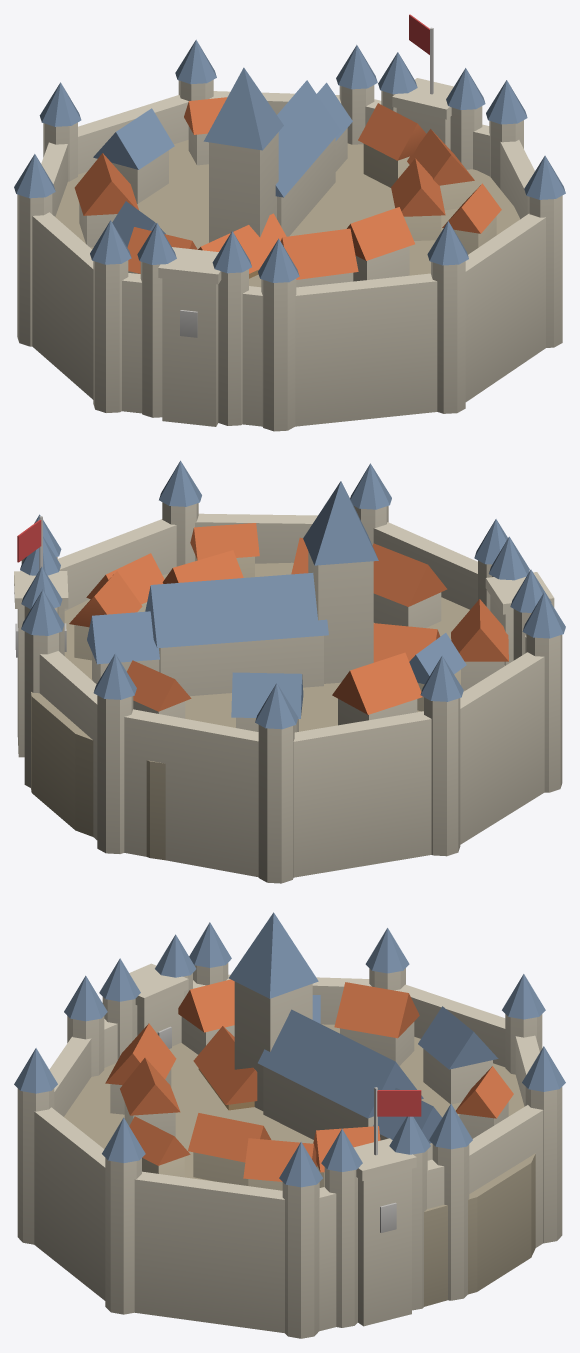
The model's file is town_west_a.glb.
The picture shows the model from 3 angles, top to bottom: view 1: azimuth 30°, elevation 25°; view 2: azimuth 150°, elevation 25°; view 3: azimuth 270°, elevation 25°; orthographic projection. The views are drawn at different scales.
Visible parts, largest first — view 1: town_west_a; view 2: town_west_a; view 3: town_west_a.
Boxes of the visible parts, left/top/right/bottom form: town_west_a: left=14, top=14, right=565, bottom=431; town_west_a: left=14, top=460, right=565, bottom=883; town_west_a: left=14, top=912, right=565, bottom=1338.
Bounding box in the file's own units: 1.99 × 1.1 × 1.95.
